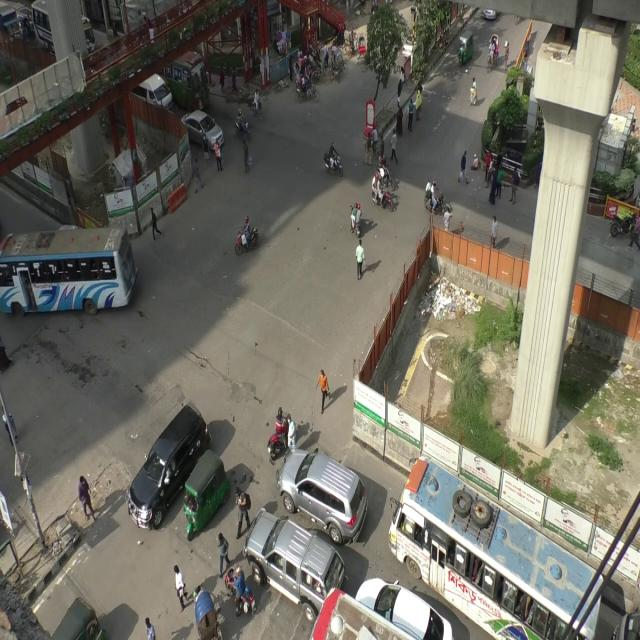cng: (182, 444, 232, 542), (457, 32, 476, 71)
rikshaw: (306, 50, 331, 82), (328, 47, 349, 79), (487, 31, 500, 73), (293, 61, 308, 94), (356, 31, 368, 67)
